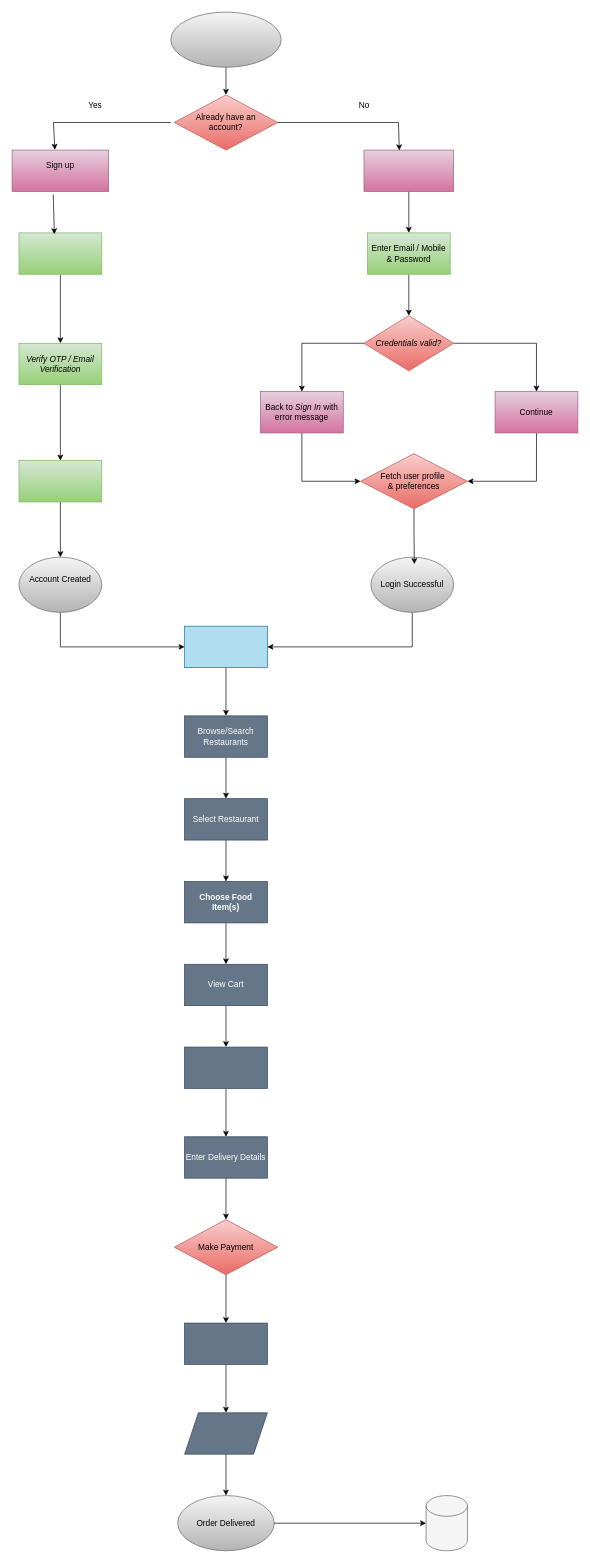
Image size: 590x1563. Some labels were removed from this diagram. The centre of each missing label's shape, as x and y in pixels:
"Create Profile (location, preferences)" goes at pixel 60 481.
"Enter details (Name, Email, Mobile, Password)" goes at pixel 60 253.
"Feedback" goes at pixel 446 1523.
"Go to Home Page" goes at pixel 225 646.
"Open (Zomato or Swiggy)" goes at pixel 225 39.
"Order Confirmation" goes at pixel 225 1343.
"Proceed to Checkout" goes at pixel 225 1067.
"Sign in" goes at pixel 408 170.
"Track Order" goes at pixel 225 1433.
